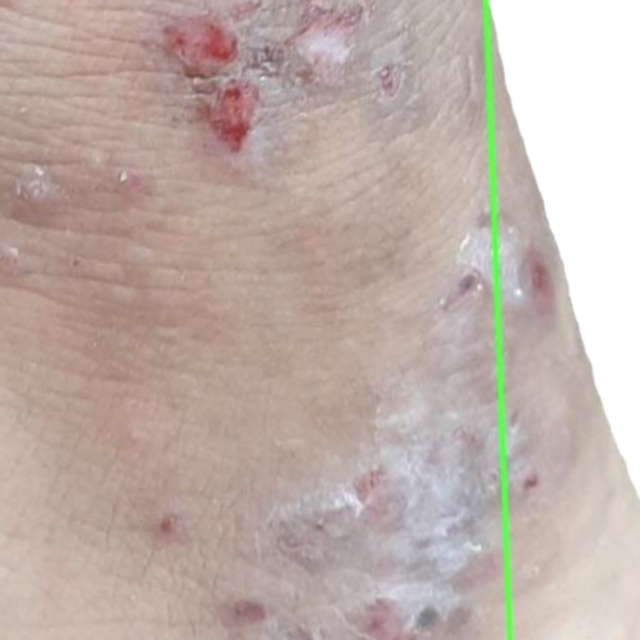Eczema: (486, 0, 639, 639)
